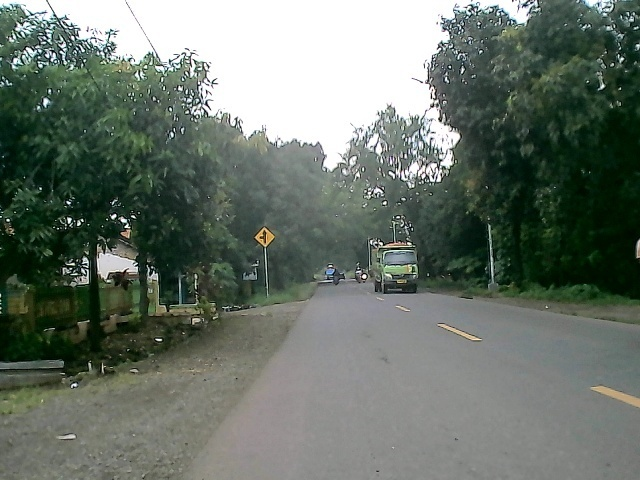Simpang kiri dengan prioritas: (252, 226, 276, 251)
